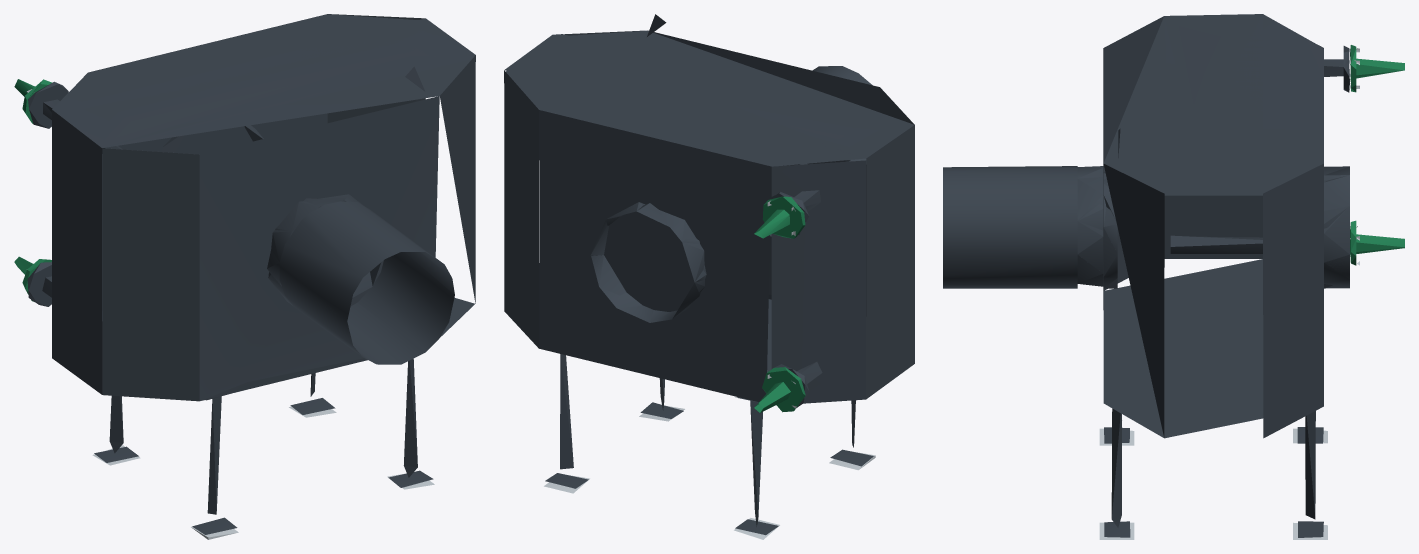
The model's file is economizer.glb.
The picture shows the model from 3 angles, left to right: view 1: azimuth 30°, elevation 25°; view 2: azimuth 150°, elevation 25°; view 3: azimuth 270°, elevation 25°; orthographic projection. The views are drawn at different scales.
Parts seen in each view (by area): view 1: economizer, flue_spacer, eco_inlet_adapter, economizer_leveling; view 2: economizer, eco_inlet_adapter, economizer_leveling, flue_spacer; view 3: economizer, flue_spacer, eco_inlet_adapter, economizer_leveling.
Boxes of the visible parts, x1,y1,x2,y2 form: economizer: (27, 14, 475, 534); flue_spacer: (279, 201, 454, 364); eco_inlet_adapter: (14, 79, 51, 301); economizer_leveling: (92, 406, 434, 539); economizer: (504, 14, 914, 535); eco_inlet_adapter: (754, 196, 805, 412); economizer_leveling: (544, 406, 875, 539); flue_spacer: (812, 66, 872, 85); economizer: (1077, 14, 1349, 537); flue_spacer: (943, 166, 1077, 288); eco_inlet_adapter: (1349, 45, 1404, 265); economizer_leveling: (1099, 428, 1327, 539).
Size of the model in its own units: 1.58 by 1.67 by 1.72.
